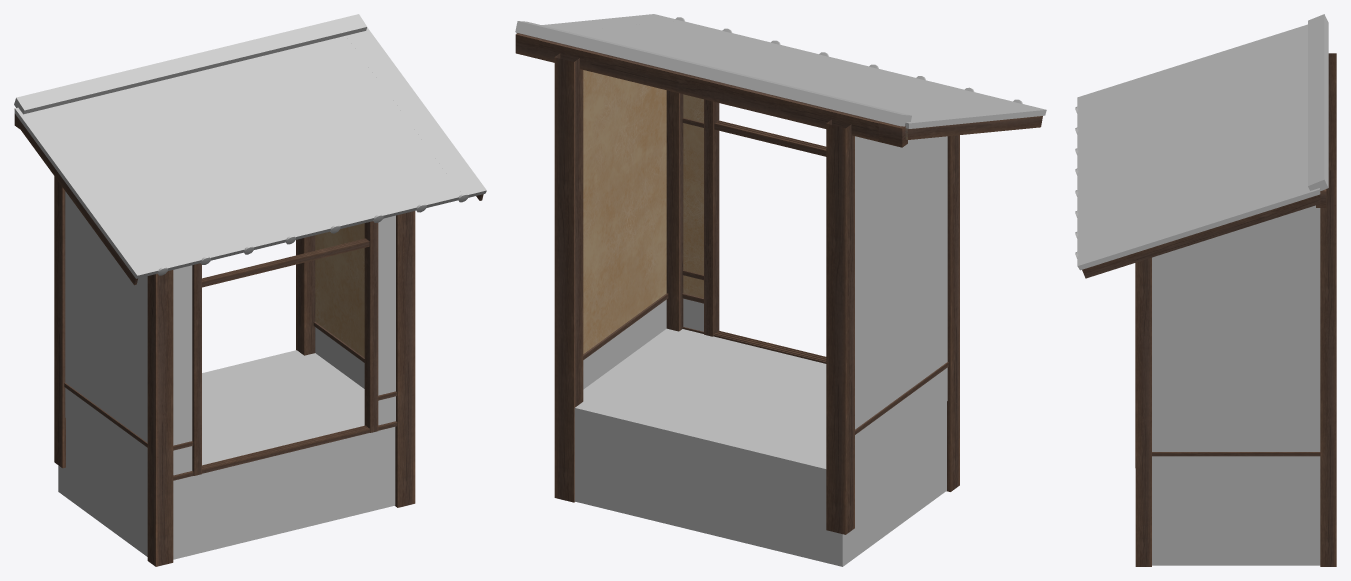
The model's file is kawara_entrance_2td.fbx.
3 views of the same model, side by side, from view 1: azimuth 30°, elevation 25°; view 2: azimuth 150°, elevation 25°; view 3: azimuth 270°, elevation 25° (orthographic). The views are drawn at different scales.
Parts seen in each view (by area): view 1: kawara_entrance_2td; view 2: kawara_entrance_2td; view 3: kawara_entrance_2td.
Boxes of the visible parts, left/top/right/bottom form: kawara_entrance_2td: left=14, top=14, right=486, bottom=566; kawara_entrance_2td: left=515, top=14, right=1046, bottom=566; kawara_entrance_2td: left=1075, top=14, right=1336, bottom=566.
Size of the model in its own units: 445 by 499 by 291.
